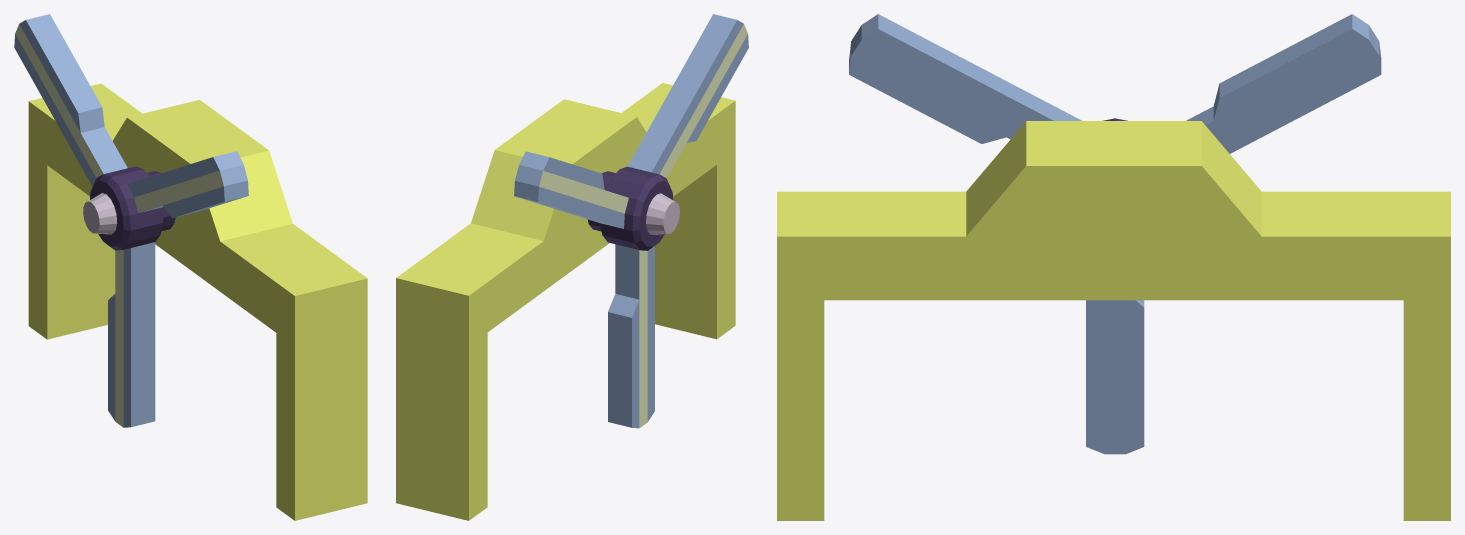
The model's file is Obstaculo Helice.fbx.
3 renders of one model, left to right at view 1: azimuth 30°, elevation 25°; view 2: azimuth 150°, elevation 25°; view 3: azimuth 270°, elevation 25°, orthographic. The views are drawn at different scales.
Parts seen in each view (by area): view 1: Box028, Cylinder011; view 2: Box028, Cylinder011; view 3: Box028, Cylinder011.
Part boxes in pixels (x1,y1,x2,y2): Box028: [28, 83, 367, 520]; Cylinder011: [14, 14, 248, 427]; Box028: [396, 83, 735, 520]; Cylinder011: [514, 14, 748, 428]; Box028: [777, 121, 1450, 520]; Cylinder011: [849, 14, 1381, 454].
Size of the model in its own units: 13.51 by 31.2 by 43.67.
